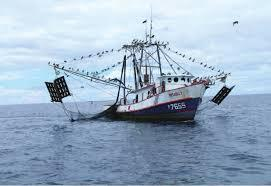Ship: (40, 12, 238, 123)
